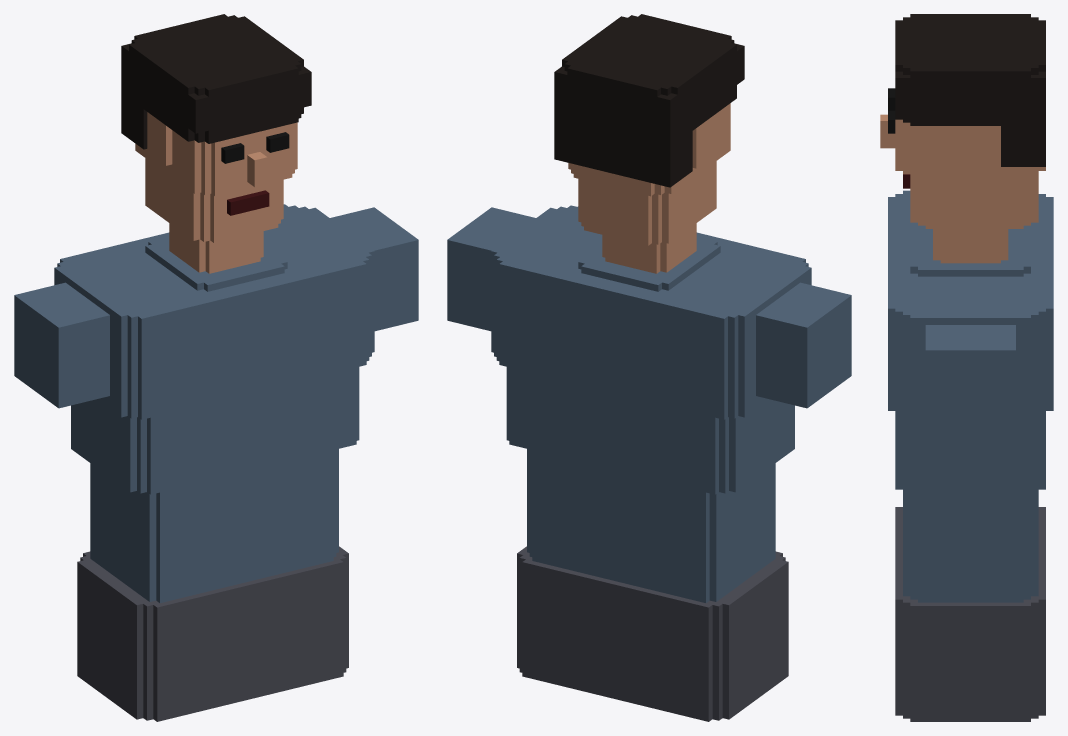
Rendered from player_bust_item.glb.
3 renders of one model, left to right at view 1: azimuth 30°, elevation 25°; view 2: azimuth 150°, elevation 25°; view 3: azimuth 270°, elevation 25°, orthographic.
Visible parts, largest first — view 1: bust:bust; view 2: bust:bust; view 3: bust:bust.
Part boxes in pixels (x1,y1,x2,y2): bust:bust: [14, 14, 418, 721]; bust:bust: [447, 14, 851, 721]; bust:bust: [880, 14, 1053, 721].
Size of the model in its own units: 0.56 by 0.92 by 0.23.
